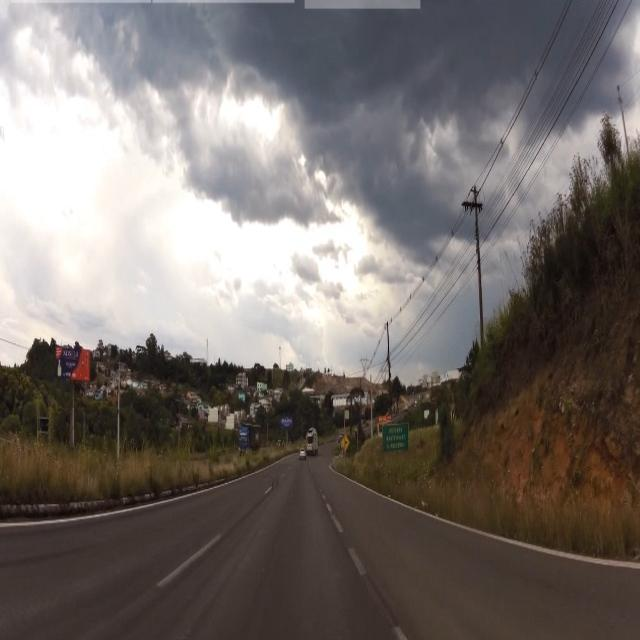I-4: (384, 422, 406, 450)
